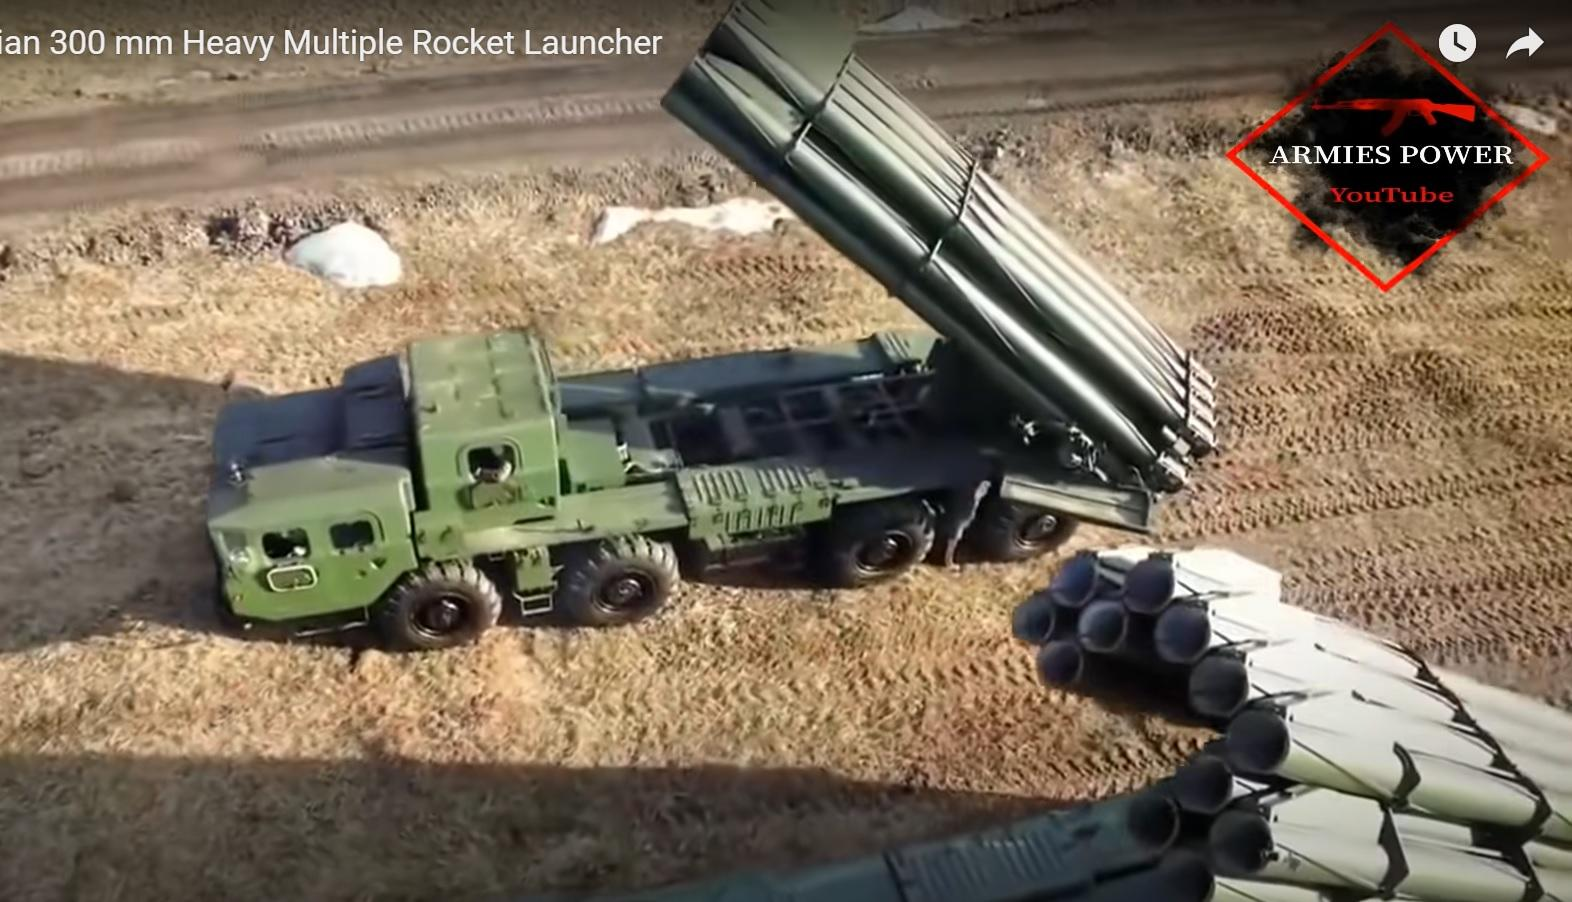MIL_SAM_TEL: (192, 11, 1227, 654)
